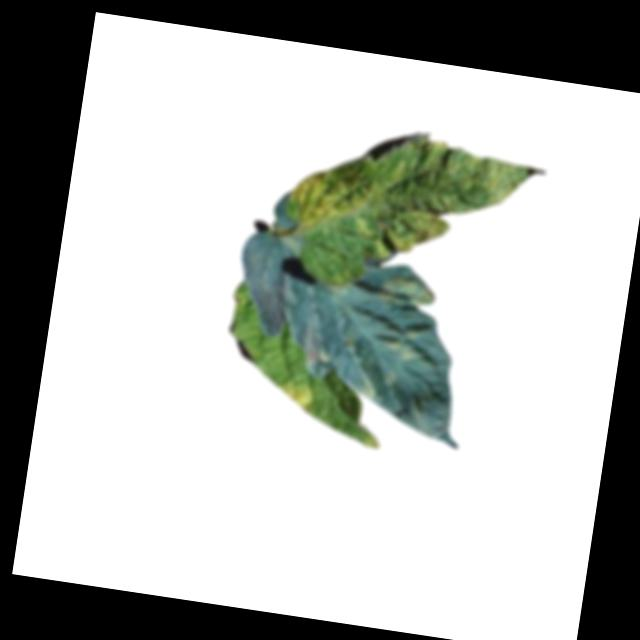Leaf_Mold: (280, 116, 534, 281), (377, 273, 439, 314), (375, 320, 428, 363), (269, 377, 315, 413), (299, 326, 334, 367)
